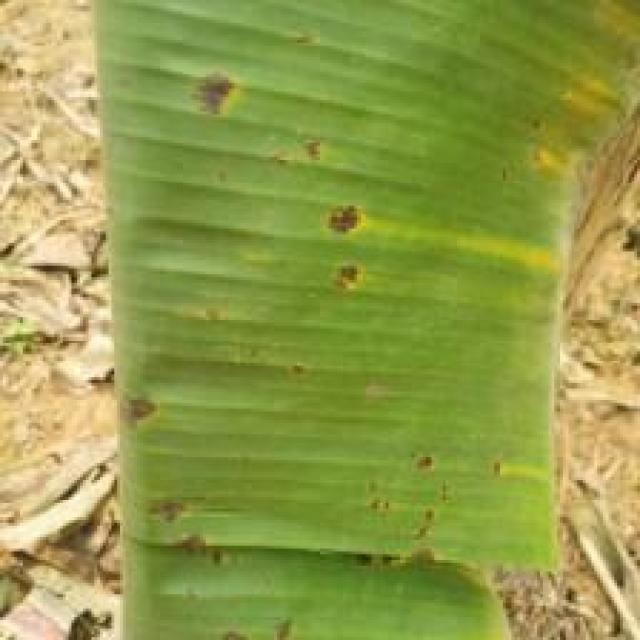Downey_mildrew: (514, 0, 640, 608), (342, 442, 472, 584), (370, 202, 535, 282), (128, 481, 252, 584), (317, 180, 376, 307), (179, 58, 268, 130), (194, 591, 306, 640), (116, 359, 171, 442), (292, 114, 335, 178)
